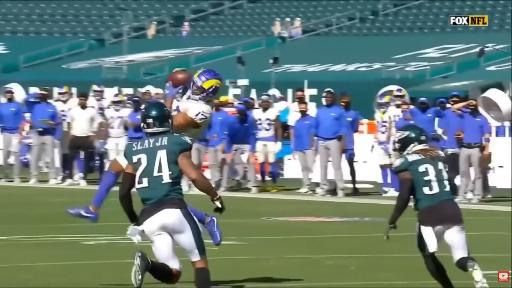Helmet: (141, 102, 172, 135), (191, 69, 222, 101), (394, 124, 427, 153), (392, 88, 406, 105), (111, 94, 125, 110), (377, 94, 390, 111), (57, 86, 71, 101), (91, 85, 104, 100), (260, 94, 271, 107)
Jersey: (124, 133, 192, 207), (393, 152, 453, 210), (179, 97, 213, 139), (253, 108, 278, 141), (105, 108, 130, 137), (375, 112, 392, 143), (53, 101, 69, 122), (387, 106, 402, 122)
Player: (111, 102, 224, 287), (386, 125, 488, 287), (167, 70, 221, 140), (173, 70, 221, 140), (253, 94, 282, 191), (373, 94, 397, 195), (54, 87, 72, 182), (105, 94, 130, 161), (387, 88, 406, 146), (387, 89, 406, 122)
